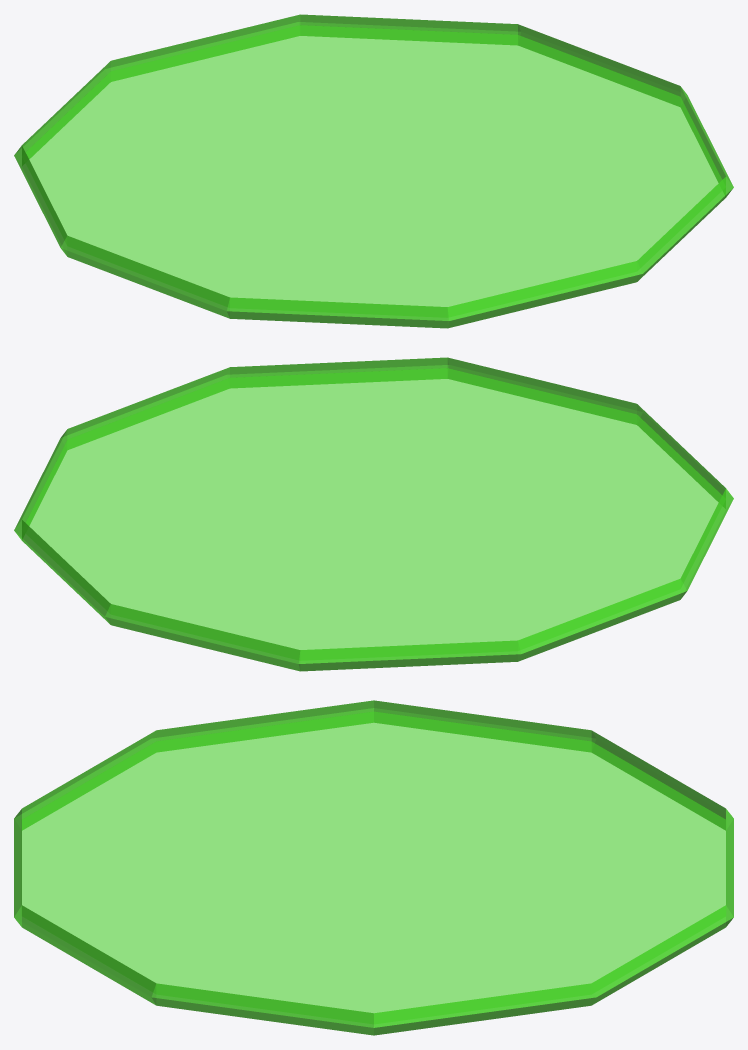
File: Disco.fbx
The picture shows the model from 3 angles, top to bottom: view 1: azimuth 30°, elevation 25°; view 2: azimuth 150°, elevation 25°; view 3: azimuth 270°, elevation 25°; orthographic projection. The views are drawn at different scales.
Parts seen in each view (by area): view 1: Disco; view 2: Disco; view 3: Disco.
Boxes of the visible parts, bbox=[...] form: Disco: bbox=[14, 14, 733, 328]; Disco: bbox=[14, 357, 733, 671]; Disco: bbox=[14, 700, 733, 1035].
Size of the model in its own units: 160 by 5.2 by 152.
